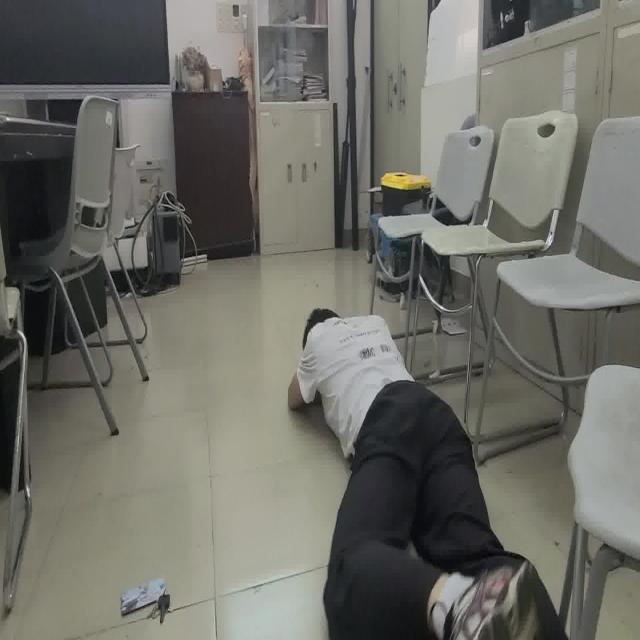Fall-Detected: (287, 305, 570, 640)
